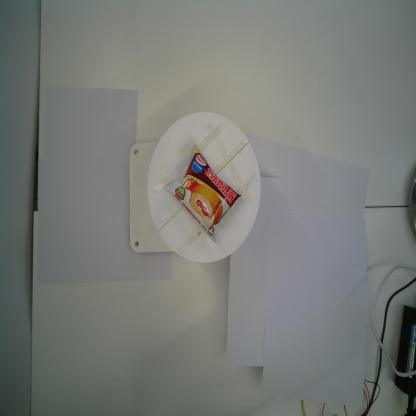Dessert: (166, 139, 242, 247)
